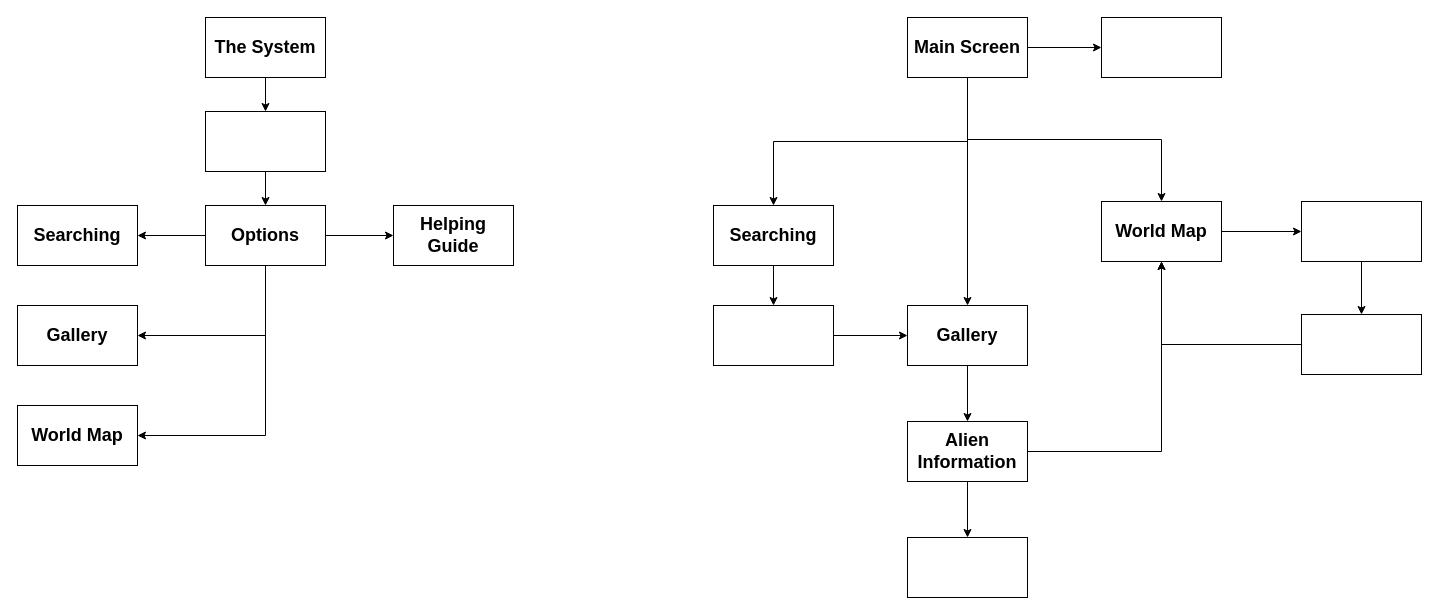
The diagram is 1439 pixels wide and 615 high, and some of its shapes have lost their labels. Each missing label, with the centre of its shape:
Comment Section: the point at 1361,344
Description Location: the point at 1361,231
Guest Account: the point at 265,141
News Related: the point at 1161,47
Searching List: the point at 773,335
Source files: the point at 967,567
